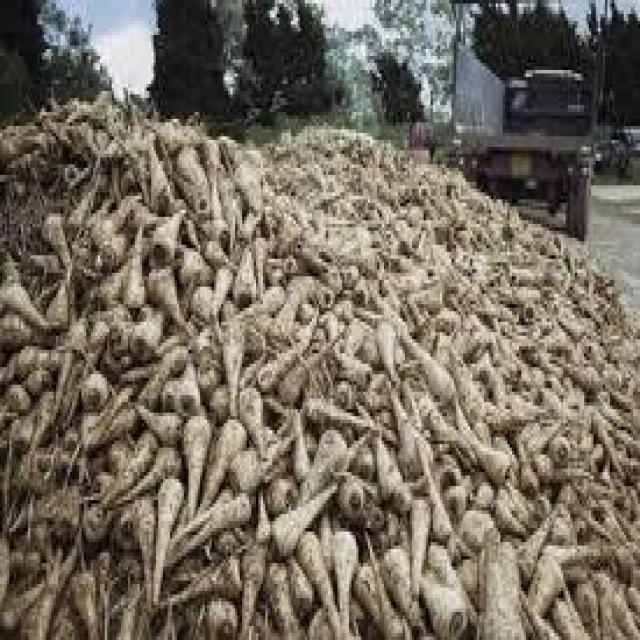Organik: (5, 73, 638, 640)
